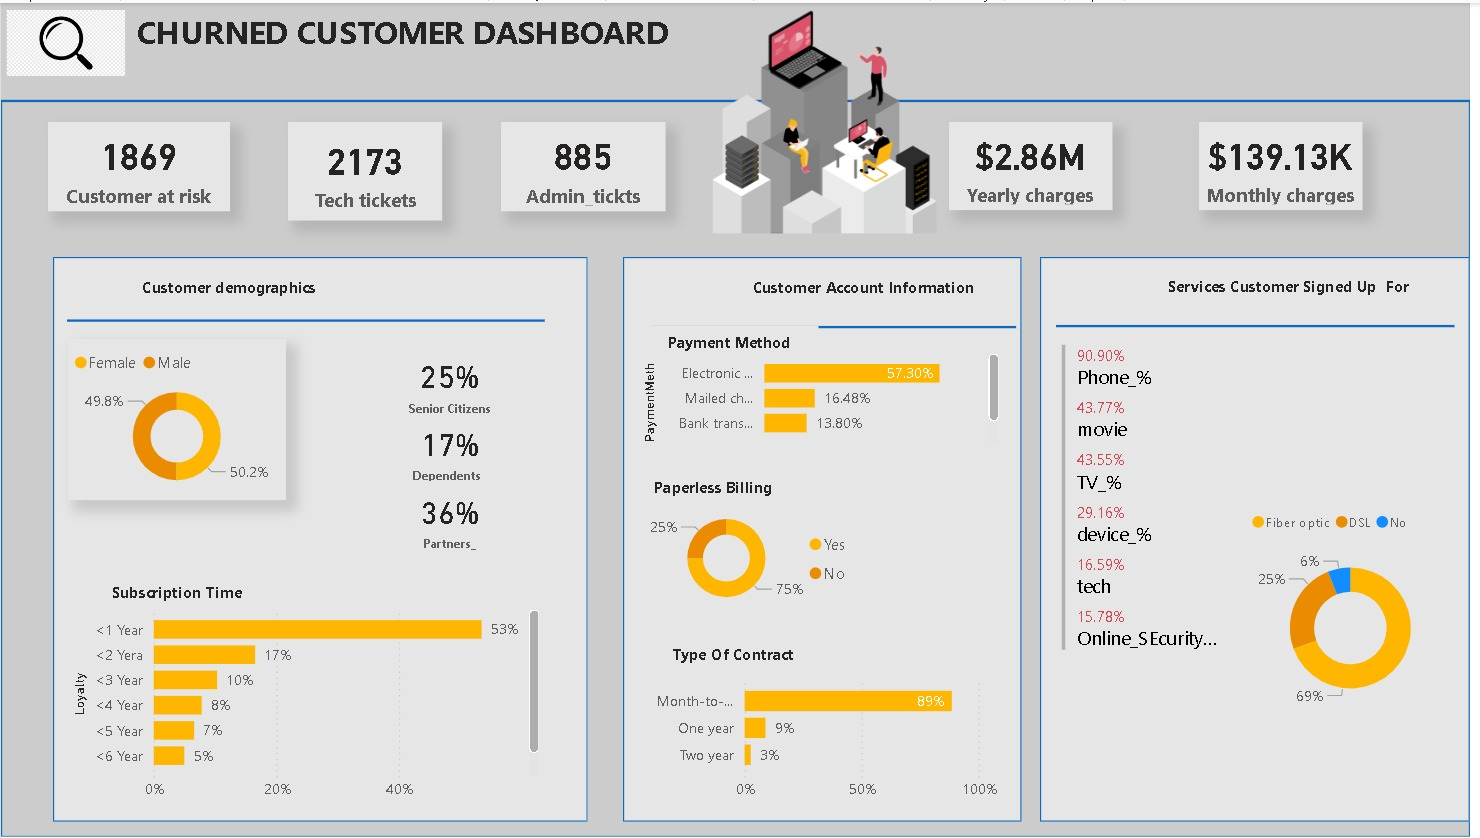

The page's visual inventory and layout, read from the dashboard file:
{"tool":"powerbi","page":{"name":"Churned Data","canvas":[1280,720],"ordinal":0},"visuals":[{"type":"shape","box":[0,0,1267.1,719.4],"z":0,"group":"g1"},{"type":"shape","box":[536.3,218.7,343.7,487],"z":1000,"group":"g1"},{"type":"shape","box":[896.4,218.7,370.7,487],"z":2000,"group":"g1"},{"type":"shape","box":[45.3,218.7,461.2,487],"z":3000,"group":"g1"},{"type":"card","fields":{"Values":["01 Churn-Dataset.left_customers"]},"box":[40.4,103,156.9,76.8],"z":4000,"group":"g1"},{"type":"card","fields":{"Values":["01 Churn-Dataset.Admin_tickts"]},"box":[431.3,103,141.5,76.8],"z":5000,"group":"g1"},{"type":"card","fields":{"Values":["01 Churn-Dataset.Tech_tickets"]},"box":[247.4,103,132.9,84.6],"z":6000,"group":"g1"},{"type":"card","fields":{"Values":["Sum(01 Churn-Dataset.MonthlyCharges)"]},"box":[1033.1,103,140.6,76],"z":7000,"group":"g1"},{"type":"card","fields":{"Values":["Sum(01 Churn-Dataset.TotalCharges)"]},"box":[817.4,103,140.6,76],"z":8000,"group":"g1"},{"type":"donutChart","fields":{"Y":["CountNonNull(01 Churn-Dataset.gender)"],"Category":["01 Churn-Dataset.gender"]},"box":[57.8,289.7,187.7,139],"z":9000,"group":"g1"},{"type":"card","fields":{"Values":["01 Churn-Dataset.Dependents_"]},"box":[322.5,355.8,129,62.2],"z":10000,"group":"g1"},{"type":"card","fields":{"Values":["01 Churn-Dataset.Partners_"]},"box":[322.5,412.2,129,65.1],"z":11000,"group":"g1"},{"type":"card","fields":{"Values":["01 Churn-Dataset.Senior Citizes"]},"box":[322.5,296.5,129,63.2],"z":12000,"group":"g1"},{"type":"clusteredBarChart","fields":{"Category":["01 Churn-Dataset.PaymentMethod"],"Y":["CountNonNull(01 Churn-Dataset.PaymentMethod)"]},"box":[549.8,289.7,315.8,95.3],"z":13000,"group":"g1"},{"type":"donutChart","fields":{"Category":["01 Churn-Dataset.PaperlessBilling"],"Y":["CountNonNull(01 Churn-Dataset.PaperlessBilling)"]},"box":[549.8,428.7,194.5,100.1],"z":14000,"group":"g1"},{"type":"clusteredBarChart","fields":{"Category":["01 Churn-Dataset.Contract"],"Y":["CountNonNull(01 Churn-Dataset.Contract)"]},"box":[549.8,570.6,315.8,124.4],"z":15000,"group":"g1"},{"type":"multiRowCard","fields":{"Values":["01 Churn-Dataset.Phone_%","01 Churn-Dataset.movie","01 Churn-Dataset.TV_%","01 Churn-Dataset.device_%","01 Churn-Dataset.tech","01 Churn-Dataset.Online_SEcurity_%"]},"box":[909.9,289.7,145.4,366.5],"z":16000,"group":"g1"},{"type":"donutChart","fields":{"Category":["01 Churn-Dataset.InternetService"],"Y":["CountNonNull(01 Churn-Dataset.InternetService)"]},"box":[1073.5,428.7,180,193.4],"z":17000,"group":"g1"},{"type":"clusteredBarChart","fields":{"Category":["01 Churn-Dataset.Loyalty"],"Y":["CountNonNull(01 Churn-Dataset.Loyalty)"]},"box":[57.8,510.4,411.1,184.7],"z":18000,"group":"g1"},{"type":"textbox","box":[103,231.4,188.7,36],"z":19000,"group":"g1"},{"type":"shape","box":[56.8,257.6,412.1,32.1],"z":20000,"group":"g1"},{"type":"textbox","box":[631.6,231.4,225.3,35],"z":21000,"group":"g1"},{"type":"shape","box":[909.9,266.4,343.7,24.3],"z":22000,"group":"g1"},{"type":"textbox","box":[991.7,230.4,236.9,36],"z":23000,"group":"g1"},{"type":"shape","box":[559.7,267.6,315.8,24.3],"z":24000,"group":"g1"},{"type":"textbox","box":[550.7,547.3,160.8,33.1],"z":25000,"group":"g1"},{"type":"textbox","box":[549.8,403.4,130,28.2],"z":26000,"group":"g1"},{"type":"textbox","box":[57.8,493.8,187.7,32.1],"z":27000,"group":"g1"},{"type":"textbox","box":[550.7,279,154.1,32.1],"z":28000,"group":"g1"},{"type":"textbox","box":[0,0,1267.1,84.6],"z":29000,"group":"g1"},{"type":"image","box":[0,0,111.7,68],"z":30000,"group":"g1"},{"type":"group","id":"g1","title":"Group 1","box":[0,0,1267.1,719.4],"z":30003},{"type":"shape","box":[0,72.9,1267.1,22.4],"z":31000,"group":"g1"},{"type":"image","box":[602.7,1.9,214.7,202.2],"z":32000,"group":"g1"}]}

Visuals, with their boxes in screenshot pixels (x1, y1, x2, y2), scaled from the page's 1280x720 canvas onto the 1480x838 screenshot:
shape: bbox(0, 0, 1465, 837)
shape: bbox(620, 255, 1018, 821)
shape: bbox(1036, 255, 1465, 821)
shape: bbox(52, 255, 586, 821)
card - 01 Churn-Dataset.left_customers: bbox(47, 120, 228, 209)
card - 01 Churn-Dataset.Admin_tickts: bbox(499, 120, 662, 209)
card - 01 Churn-Dataset.Tech_tickets: bbox(286, 120, 440, 218)
card - Sum(01 Churn-Dataset.MonthlyCharges): bbox(1195, 120, 1357, 208)
card - Sum(01 Churn-Dataset.TotalCharges): bbox(945, 120, 1108, 208)
donutChart - CountNonNull(01 Churn-Dataset.gender) x 01 Churn-Dataset.gender: bbox(67, 337, 284, 499)
card - 01 Churn-Dataset.Dependents_: bbox(373, 414, 522, 487)
card - 01 Churn-Dataset.Partners_: bbox(373, 480, 522, 556)
card - 01 Churn-Dataset.Senior Citizes: bbox(373, 345, 522, 419)
clusteredBarChart - 01 Churn-Dataset.PaymentMethod x CountNonNull(01 Churn-Dataset.PaymentMethod): bbox(636, 337, 1001, 448)
donutChart - 01 Churn-Dataset.PaperlessBilling x CountNonNull(01 Churn-Dataset.PaperlessBilling): bbox(636, 499, 861, 615)
clusteredBarChart - 01 Churn-Dataset.Contract x CountNonNull(01 Churn-Dataset.Contract): bbox(636, 664, 1001, 809)
multiRowCard - 01 Churn-Dataset.Phone_% x 01 Churn-Dataset.movie: bbox(1052, 337, 1220, 764)
donutChart - 01 Churn-Dataset.InternetService x CountNonNull(01 Churn-Dataset.InternetService): bbox(1241, 499, 1449, 724)
clusteredBarChart - 01 Churn-Dataset.Loyalty x CountNonNull(01 Churn-Dataset.Loyalty): bbox(67, 594, 542, 809)
textbox: bbox(119, 269, 337, 311)
shape: bbox(66, 300, 542, 337)
textbox: bbox(730, 269, 991, 310)
shape: bbox(1052, 310, 1449, 338)
textbox: bbox(1147, 268, 1421, 310)
shape: bbox(647, 311, 1012, 340)
textbox: bbox(637, 637, 823, 676)
textbox: bbox(636, 470, 786, 502)
textbox: bbox(67, 575, 284, 612)
textbox: bbox(637, 325, 815, 362)
textbox: bbox(0, 0, 1465, 98)
image: bbox(0, 0, 129, 79)
"Group 1" group: bbox(0, 0, 1465, 837)
shape: bbox(0, 85, 1465, 111)
image: bbox(697, 2, 945, 238)
